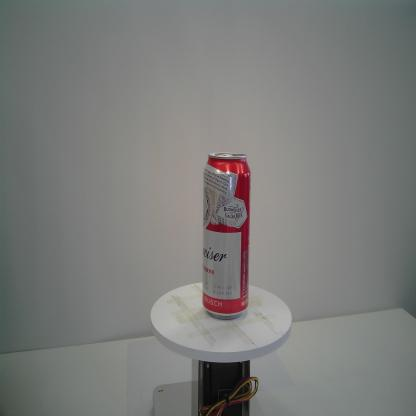Alcohol: (201, 150, 252, 321)
